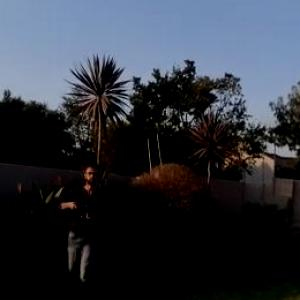follow: (40, 158, 104, 299)
